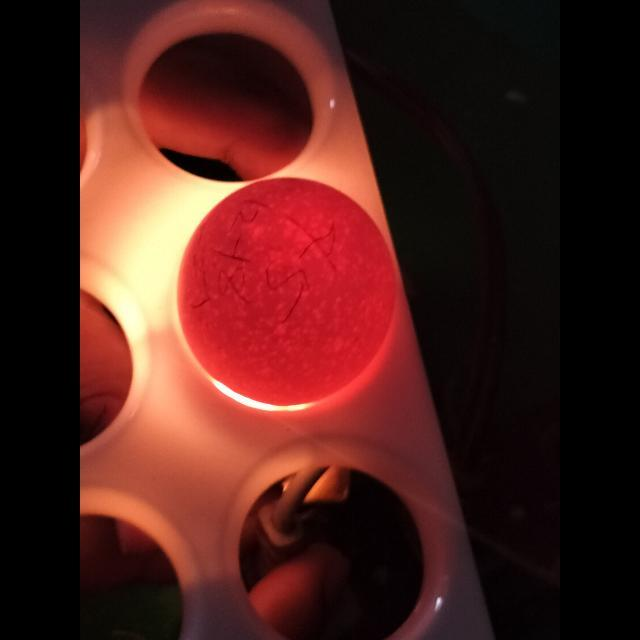Infertile: (182, 180, 400, 412)
